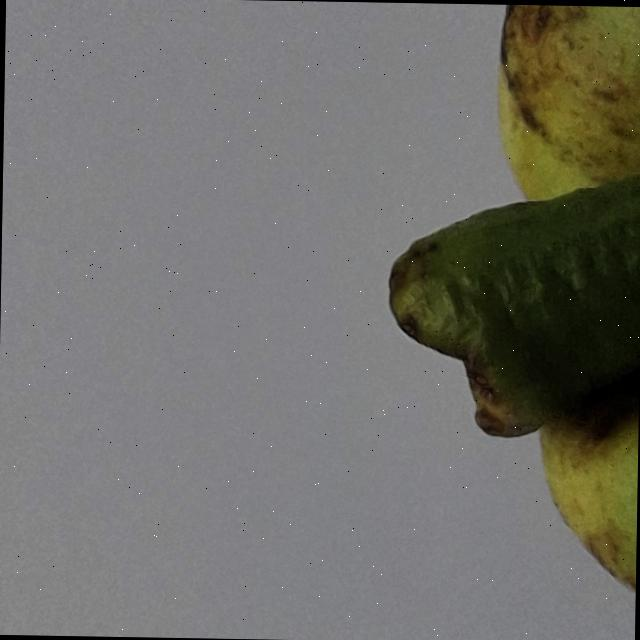mangosteen: (344, 0, 640, 640)
